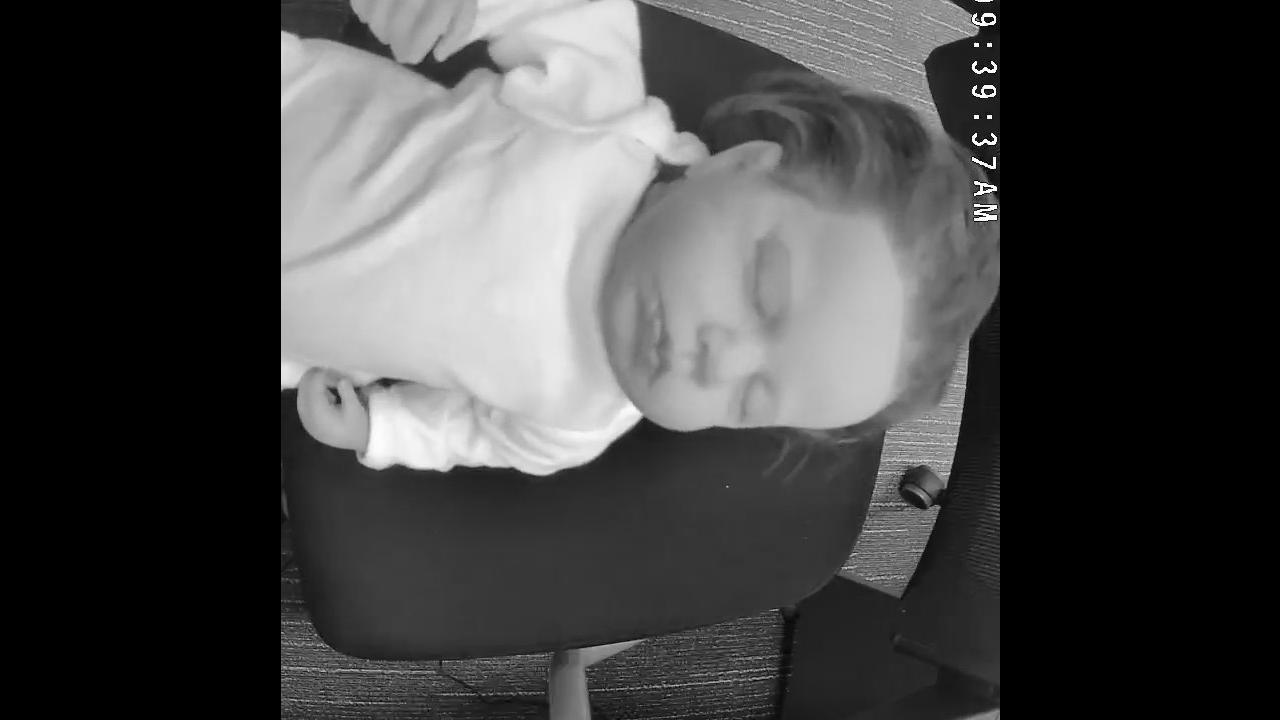hand: (347, 0, 478, 68), (292, 366, 367, 451)
